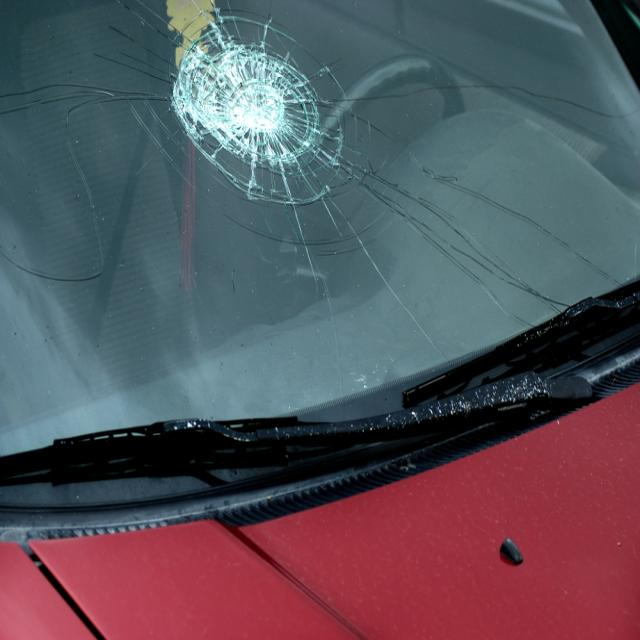Fissure: (0, 0, 640, 408)
